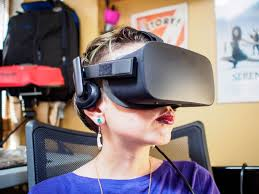oculus: (104, 42, 217, 110)
